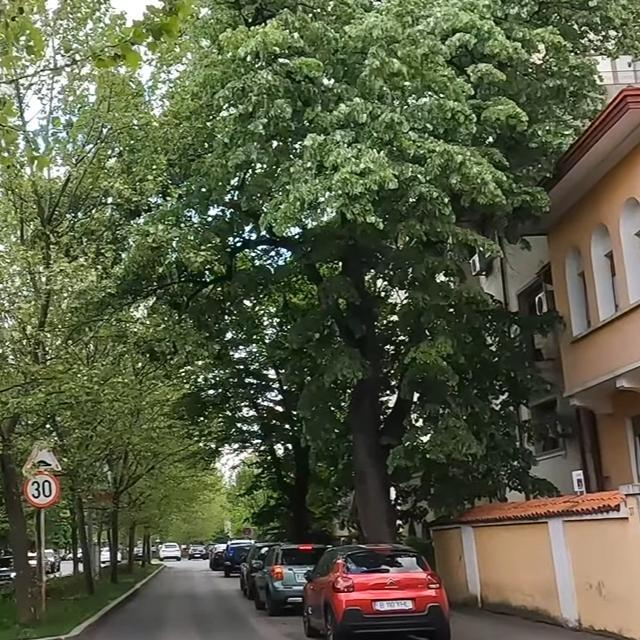forb_speed_over_30: (25, 472, 61, 507)
